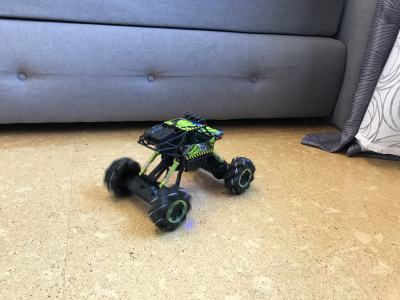remote control car: (101, 106, 259, 234)
